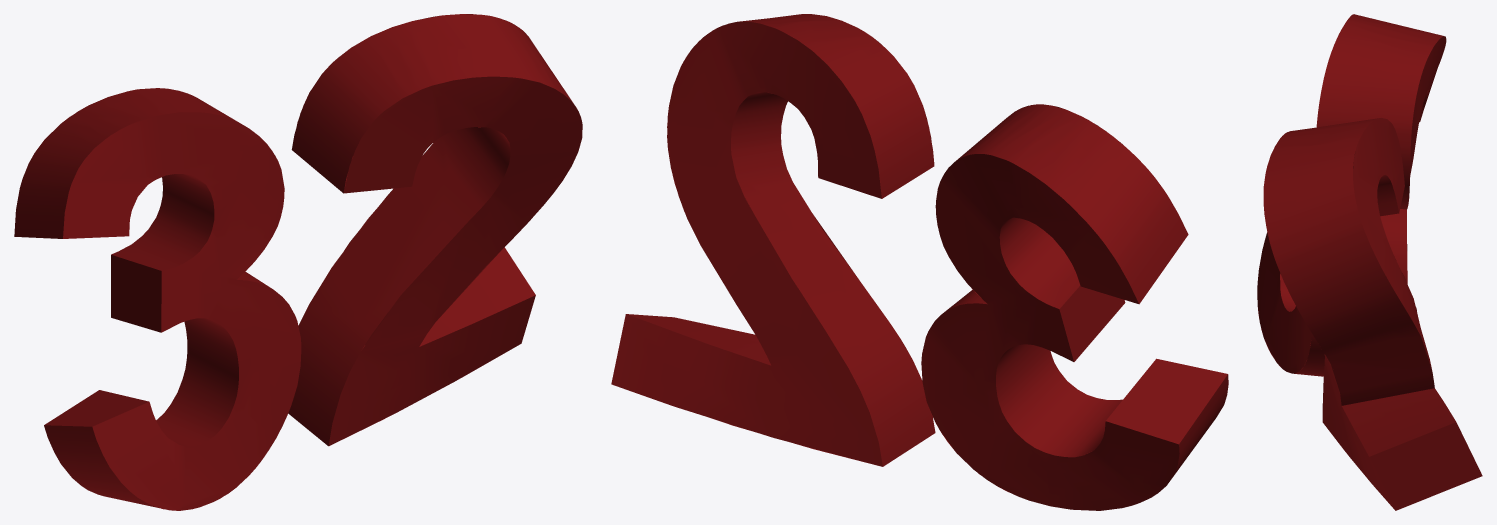
The model's file is item_32.glb.
3 renders of one model, left to right at view 1: azimuth 30°, elevation 25°; view 2: azimuth 150°, elevation 25°; view 3: azimuth 270°, elevation 25°, orthographic. The views are drawn at different scales.
Parts seen in each view (by area): view 1: Text; view 2: Text; view 3: Text.
Boxes of the visible parts, left/top/right/bottom form: Text: left=14, top=14, right=582, bottom=510; Text: left=611, top=14, right=1228, bottom=510; Text: left=1257, top=14, right=1482, bottom=510.
Size of the model in its own units: 0.7153 by 0.556 by 0.3077.
